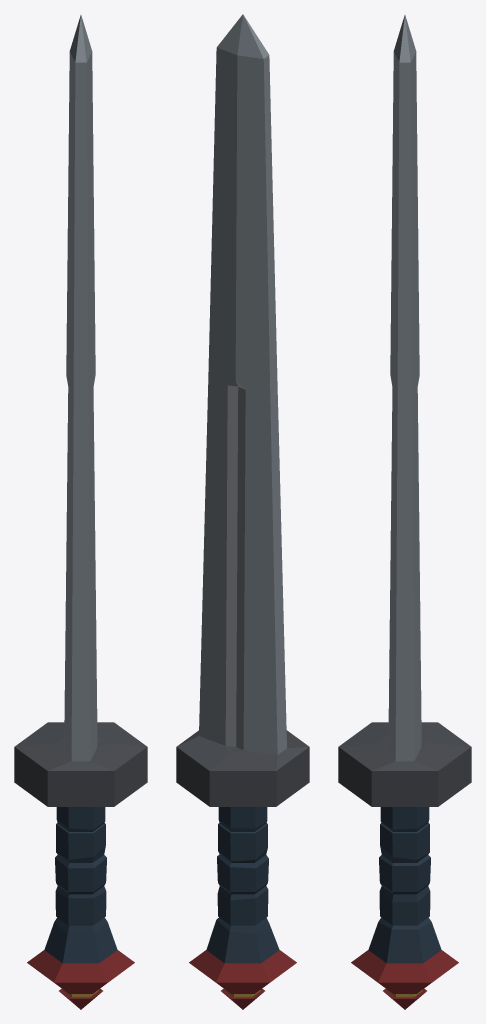
Rendered from BroadSword.glb.
3 views of the same model, side by side, from view 1: azimuth 90°, elevation 25°; view 2: azimuth 150°, elevation 25°; view 3: azimuth 270°, elevation 25° (orthographic).
Parts seen in each view (by area): view 1: BroadSword; view 2: BroadSword; view 3: BroadSword.
Part boxes in pixels (x1=…): BroadSword: x1=14, y1=15, x2=147, y2=1009; BroadSword: x1=176, y1=14, x2=309, y2=1009; BroadSword: x1=338, y1=15, x2=471, y2=1009.
Bounding box in the file's own units: 0.1073 × 1.02 × 0.1239.
Materials: 1 (1 with a texture image).
